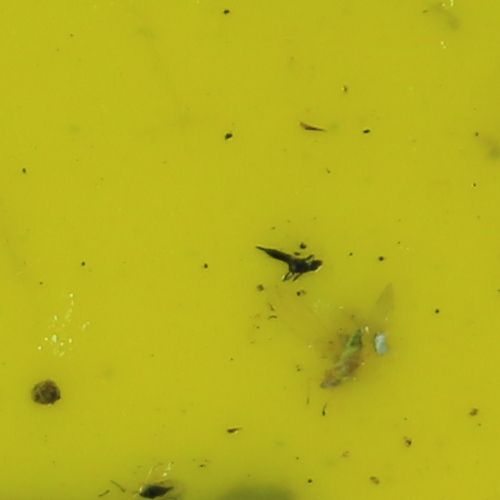Glycaspis: (315, 329, 366, 392)
